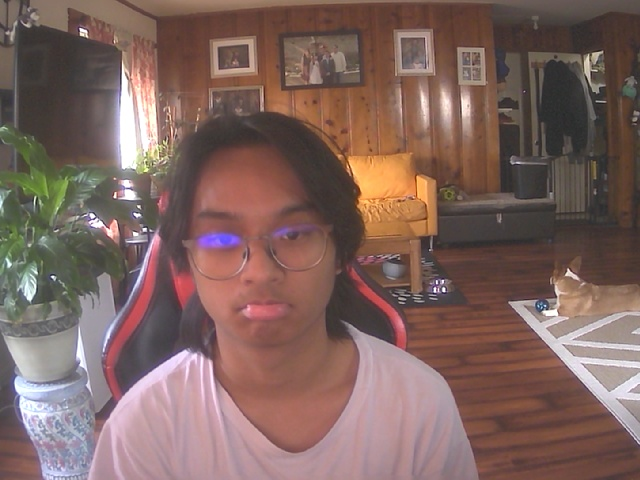sad: (176, 119, 351, 350)
